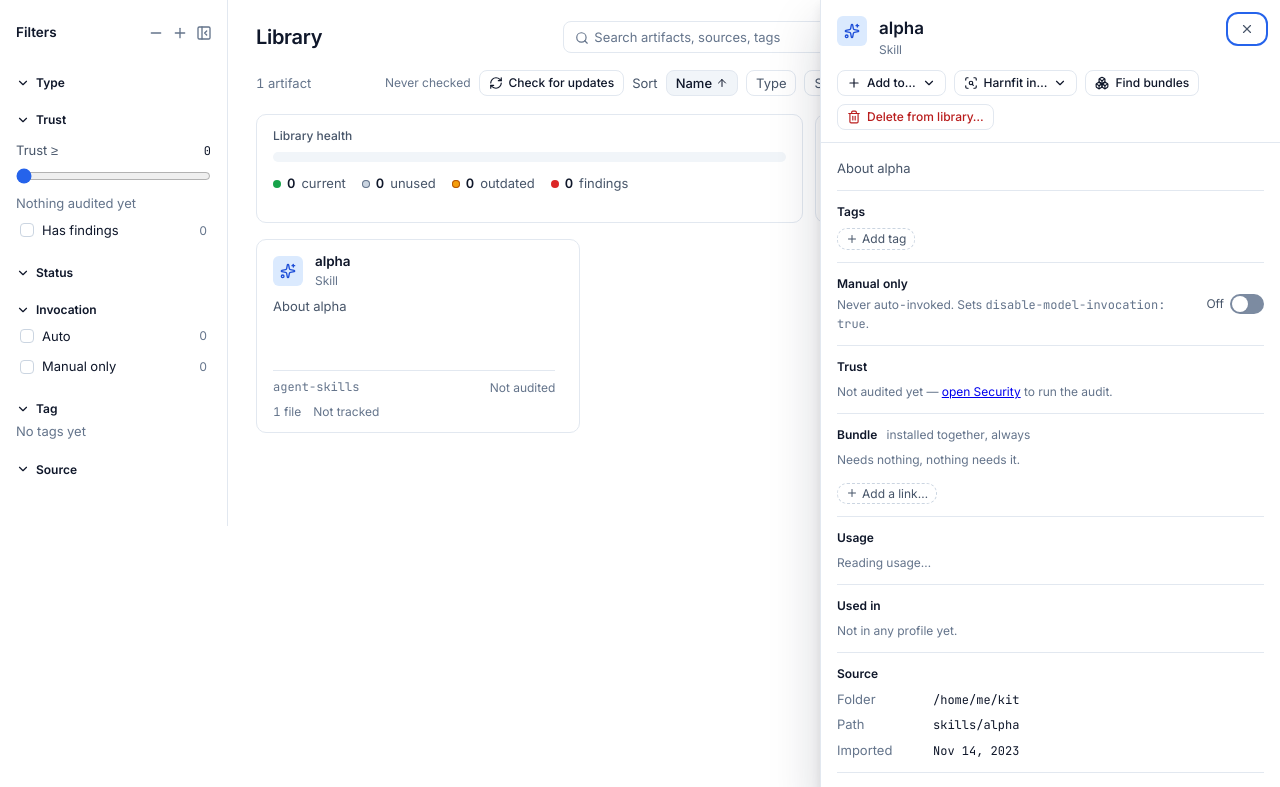
Test: tags in the detail panel › reports a rejected create inline
Step 1. Click the button "Add tag" → (876,239), box [837,228,915,250]
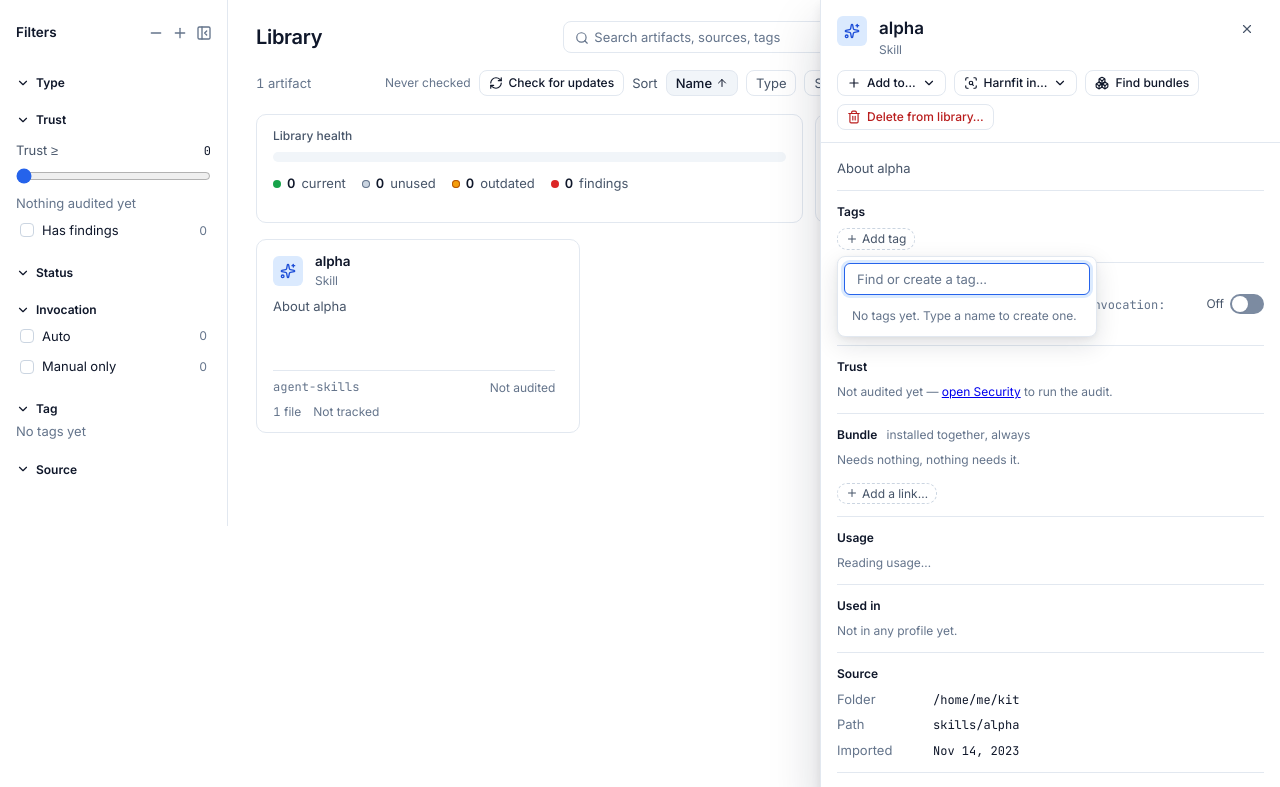
Step 2. Type "Docs" into the dropdown → (967,279), box [844,263,1090,295]
Then press Enter
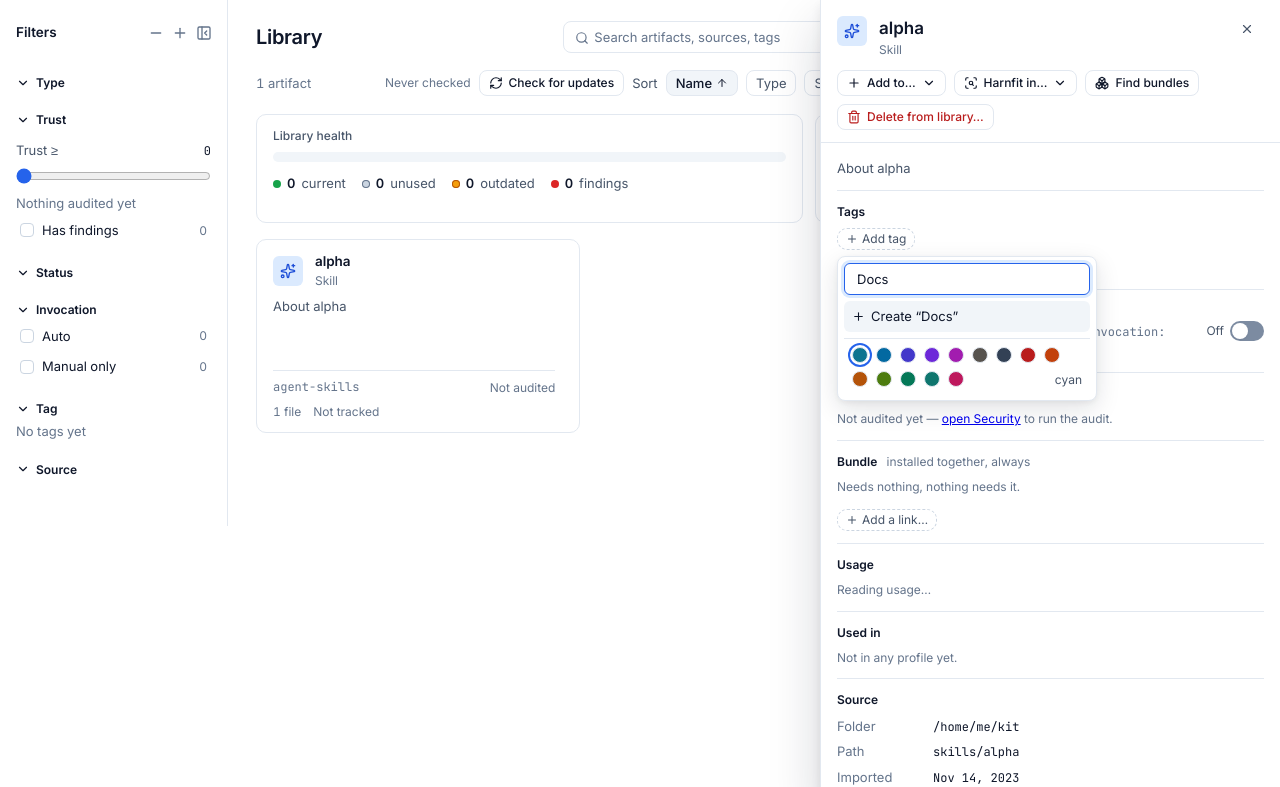
Expected: the message shows "a tag named Docs already exists", [837,259,1073,275]
Now the list is shown, box [844,301,1090,332]
